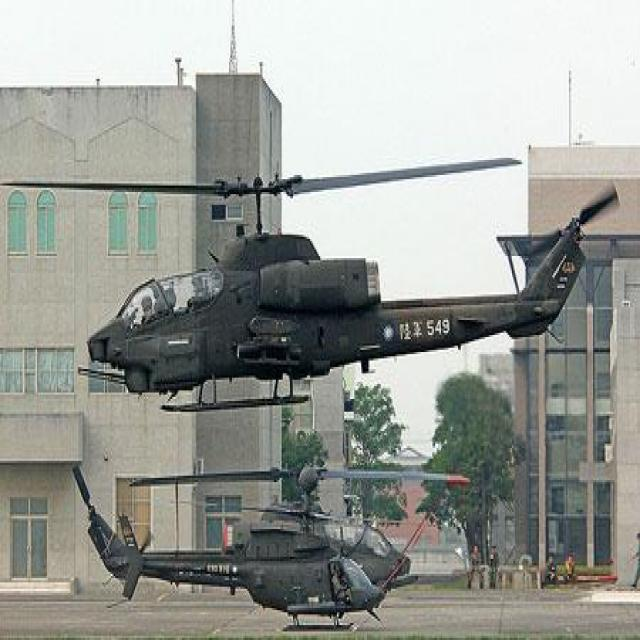MIL_HELO: (8, 143, 625, 414), (61, 437, 479, 640)
